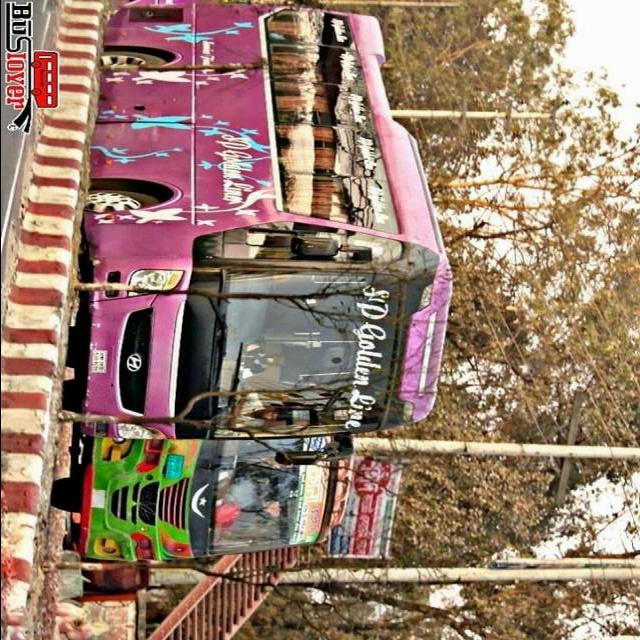bus: (78, 3, 455, 467)
